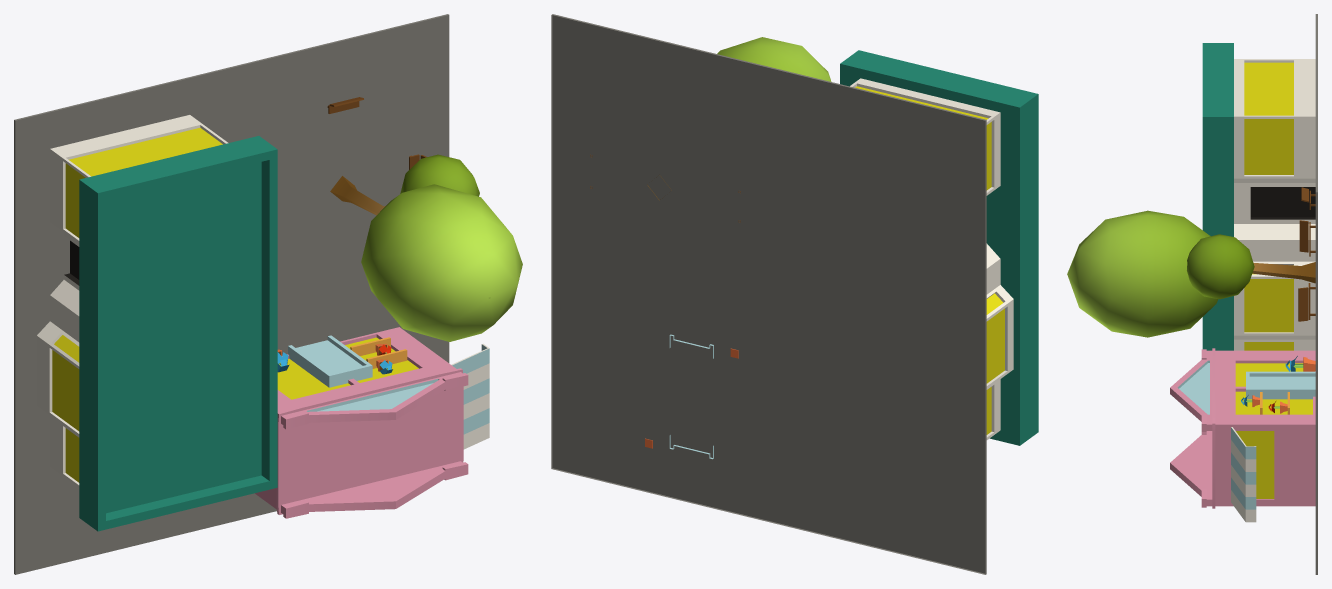
The model's file is FloristAndBakery_01.fbx.
The picture shows the model from 3 angles, left to right: view 1: azimuth 30°, elevation 25°; view 2: azimuth 150°, elevation 25°; view 3: azimuth 270°, elevation 25°; orthographic projection. The views are drawn at different scales.
Visible parts, largest first — view 1: FloristAndBakery_01; view 2: FloristAndBakery_01; view 3: FloristAndBakery_01.
Part boxes in pixels (x1,y1,x2,y2): FloristAndBakery_01: [14, 14, 522, 574]; FloristAndBakery_01: [551, 14, 1038, 574]; FloristAndBakery_01: [1067, 14, 1317, 574].
Size of the model in its own units: 200 by 200 by 119.
